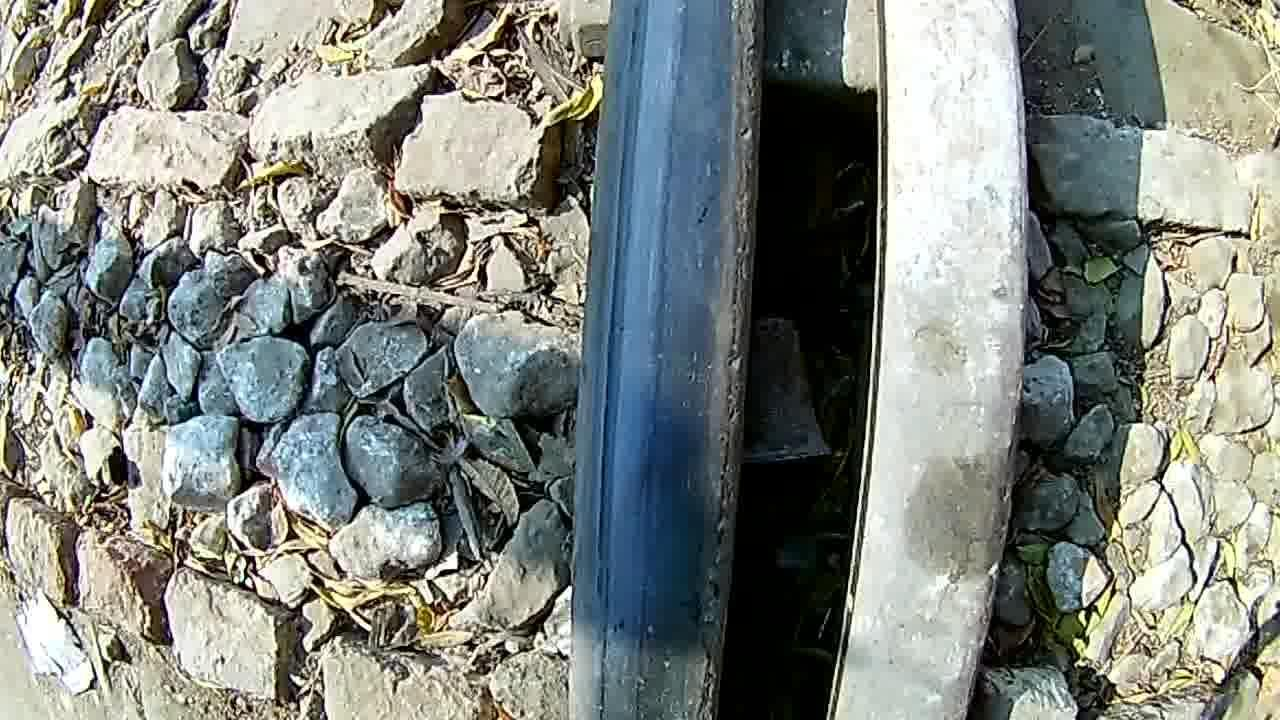crack: (552, 0, 768, 720)
